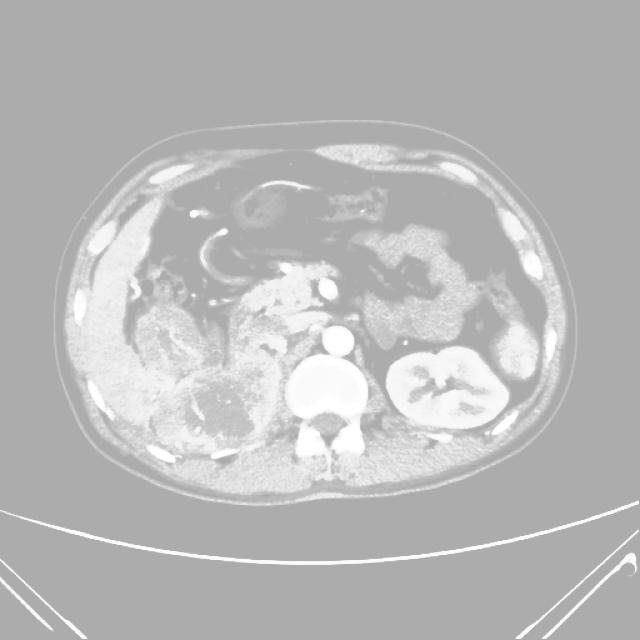TUMOR: (173, 157, 543, 498)
